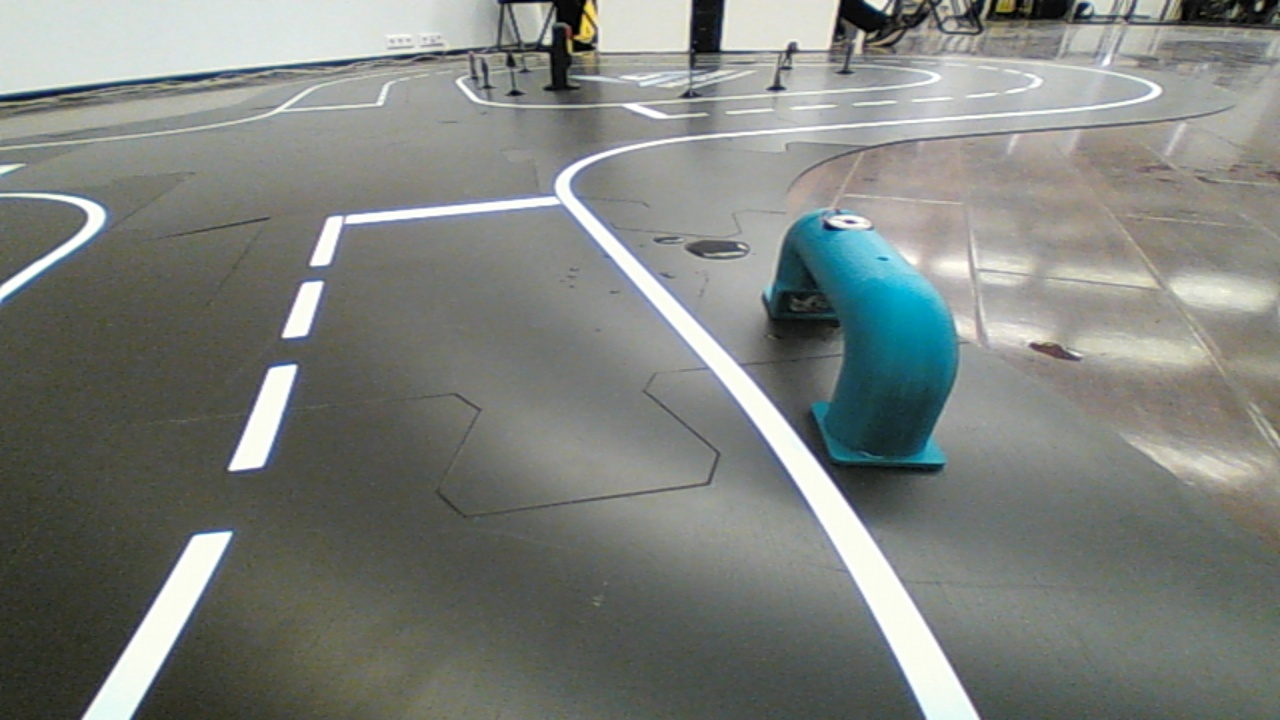Pedestrian crossing: (747, 189, 972, 497)
